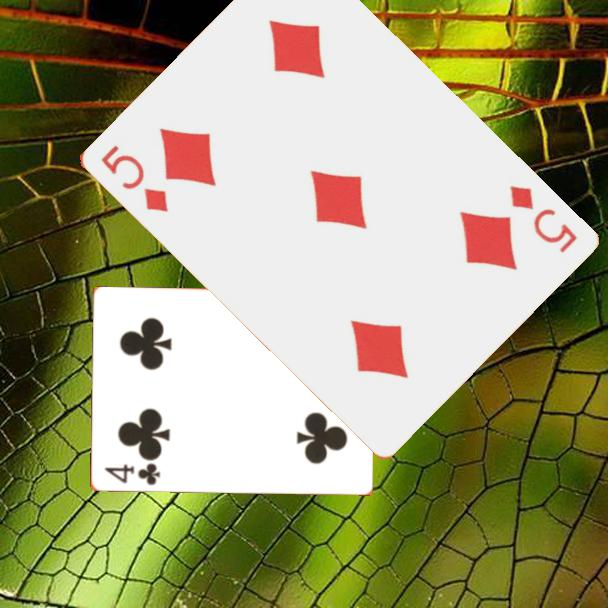c04: (101, 460, 163, 488)
d05: (505, 182, 580, 257), (97, 141, 171, 215)
